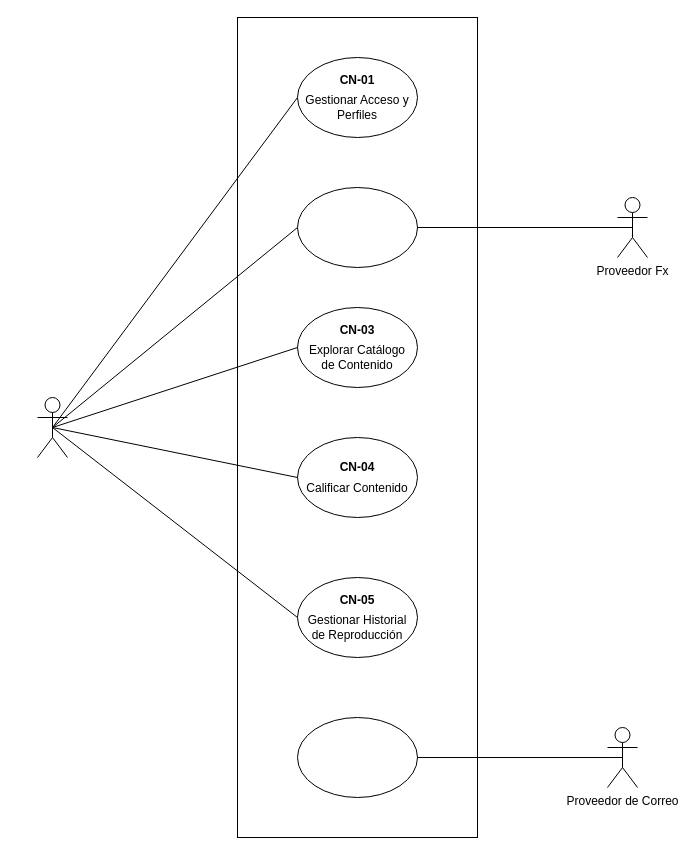
Image size: 696x855. Some labels were removed from this diagram. The centre of each missing label's shape, as x and y in pixels:
CN-02 Gestionar Suscripciones: [357,227]
CN-06 Gestionar Notificaciones: [357,757]
Usuario Final: [52,427]
